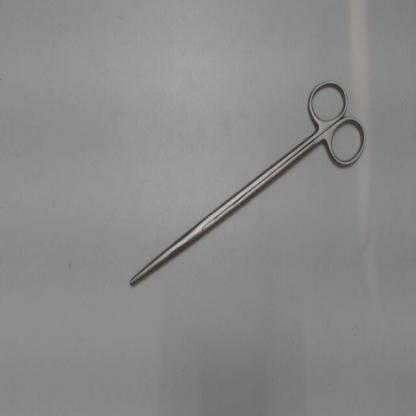9 Metzenbaum Scissors: (127, 75, 372, 290)
